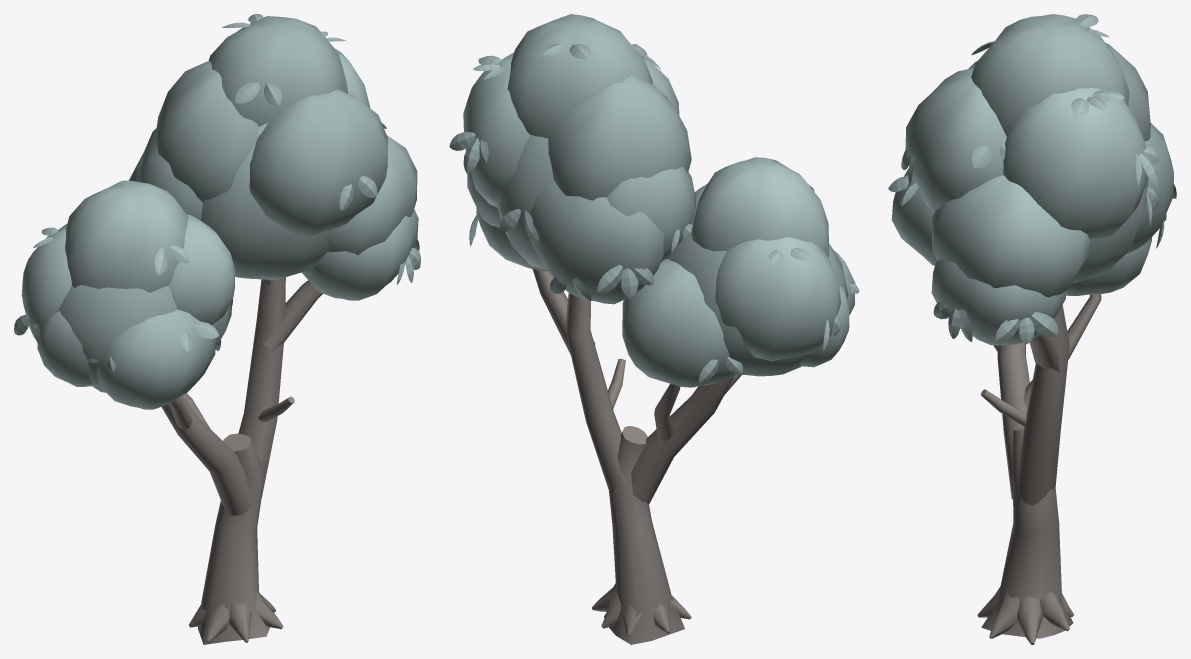
Rendered from SM_ForestForkedElm.fbx.
3 renders of one model, left to right at view 1: azimuth 30°, elevation 25°; view 2: azimuth 150°, elevation 25°; view 3: azimuth 270°, elevation 25°, orthographic. The views are drawn at different scales.
Parts seen in each view (by area): view 1: SM_ForestForkedElm; view 2: SM_ForestForkedElm; view 3: SM_ForestForkedElm.
Boxes of the visible parts, bbox=[...] form: SM_ForestForkedElm: bbox=[14, 14, 420, 644]; SM_ForestForkedElm: bbox=[449, 14, 859, 644]; SM_ForestForkedElm: bbox=[888, 14, 1176, 644].
Size of what is drawn, in the model's own units: 4.68 by 2.9 by 7.04.
